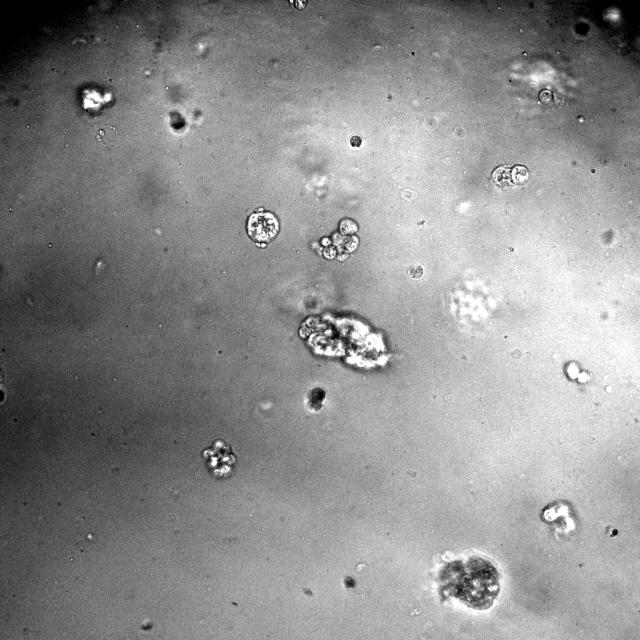organoid: (299, 312, 389, 369), (435, 553, 501, 612), (311, 217, 359, 261), (541, 500, 578, 537), (202, 438, 236, 478), (246, 207, 279, 248), (78, 82, 114, 116), (491, 165, 529, 188), (563, 360, 590, 384), (304, 386, 326, 413), (169, 111, 186, 132), (574, 21, 589, 36), (538, 88, 552, 104), (342, 575, 356, 588), (349, 135, 361, 147), (141, 619, 152, 631)
